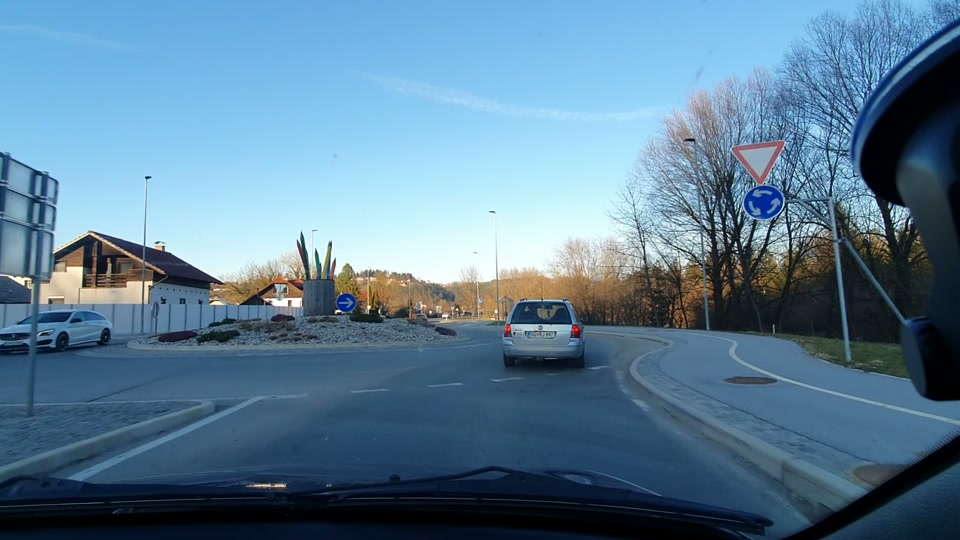vehicle_ign: (499, 287, 589, 378)
vehicle_l: (0, 306, 114, 359)
